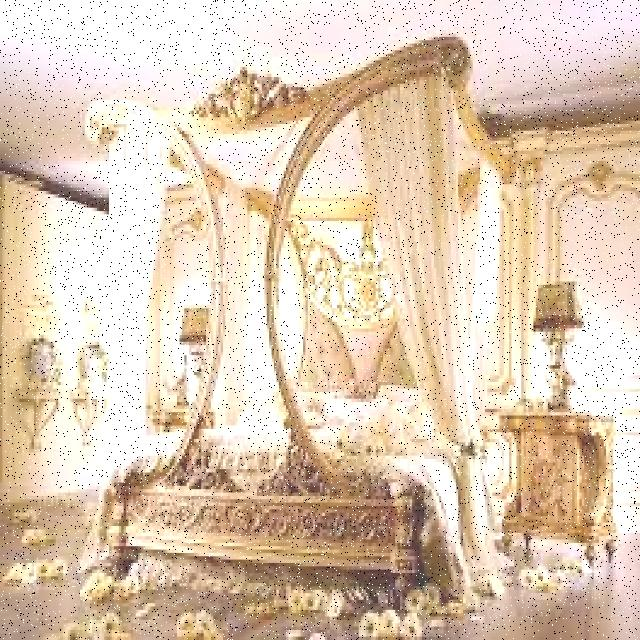bed: (96, 336, 523, 546)
